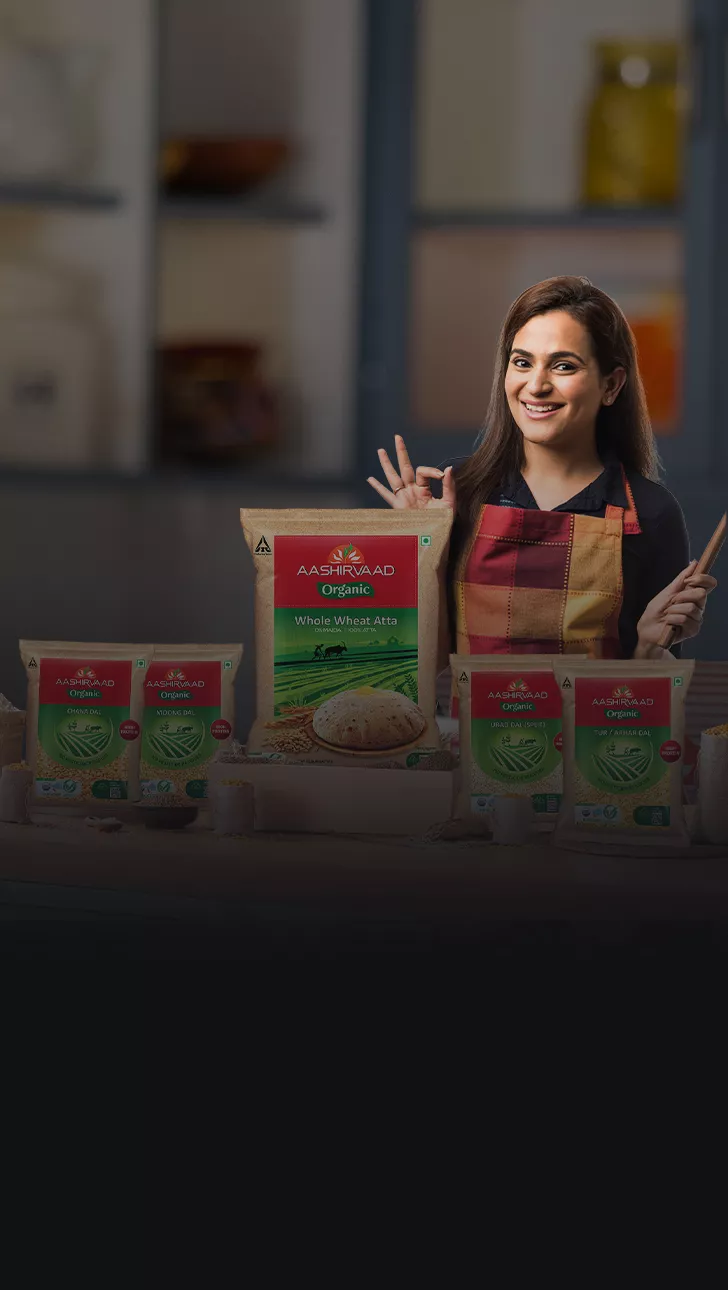Aashirvaad Atta: (36, 64, 692, 1226)
